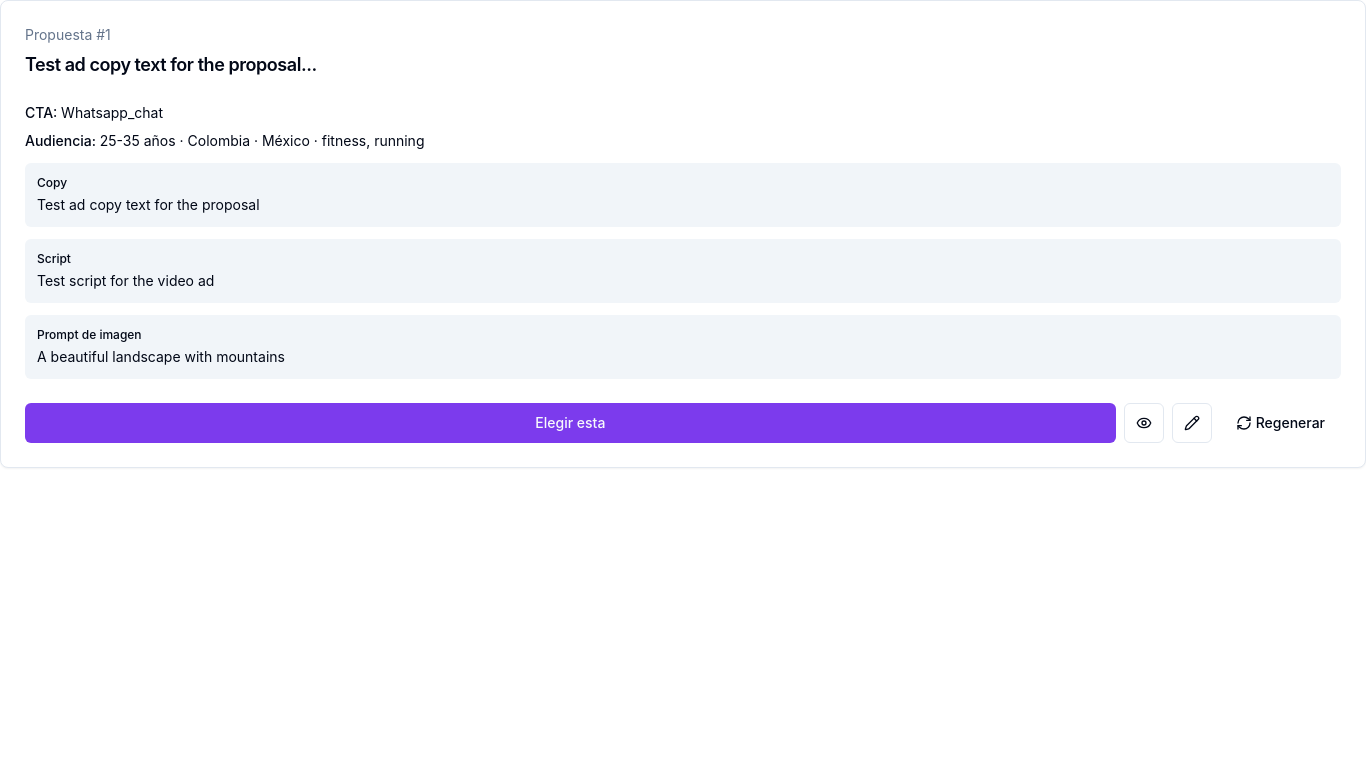
Test: Proposal Editing › shows validation error when age_max is less than age_min
Click the button titled "Editar" at (1192, 423), box x1=1172 y1=403 x2=1212 y2=443
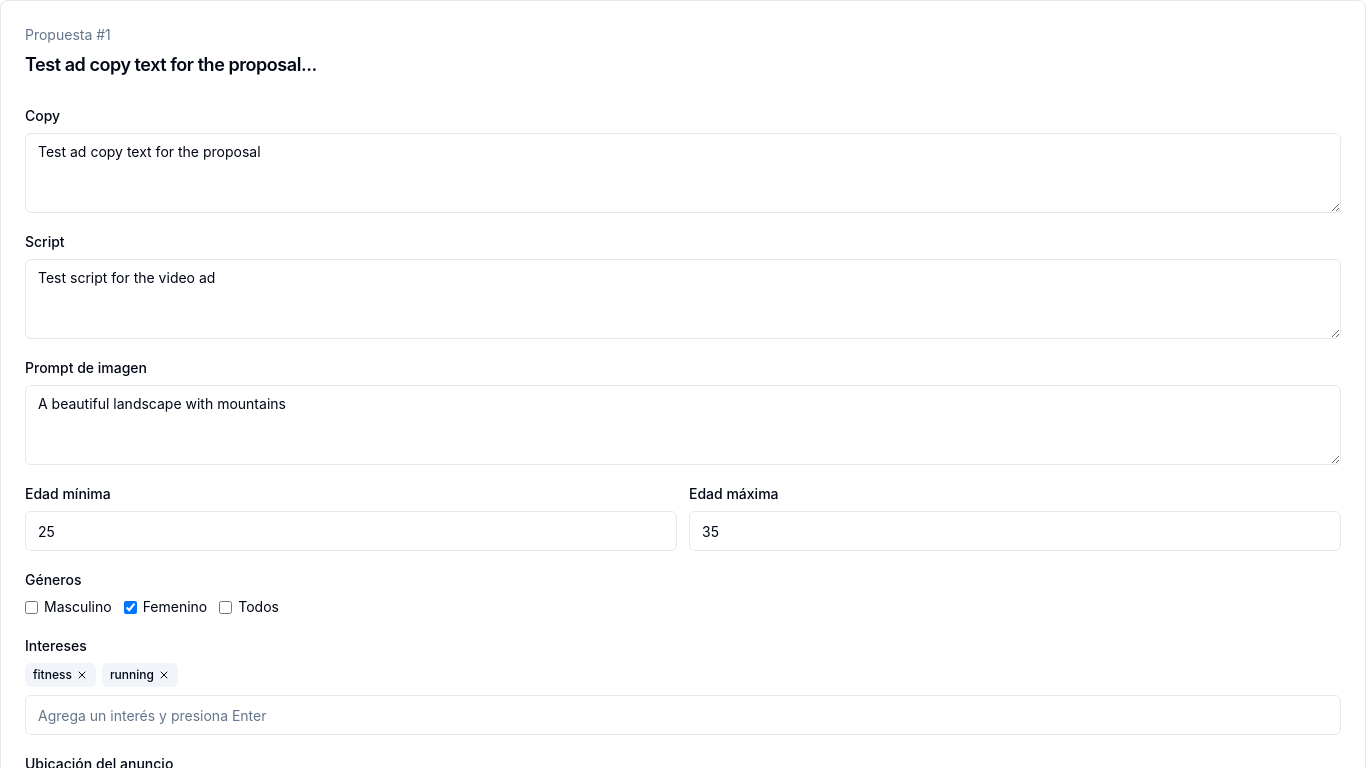
Replace the text in the number field labelled "Edad mínima" with "40" at (351, 531), box x1=25 y1=511 x2=677 y2=551
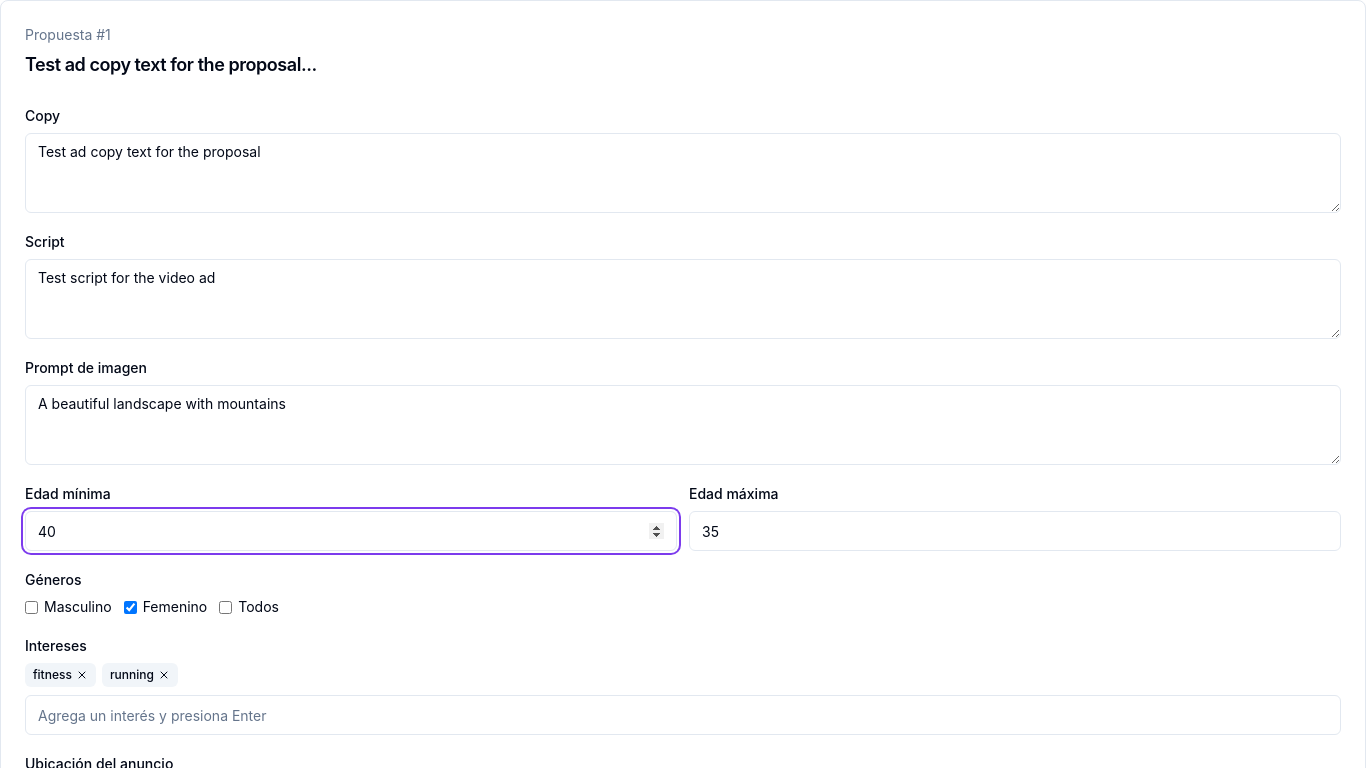
Replace the text in the number field labelled "Edad máxima" with "25" at (1015, 531), box x1=689 y1=511 x2=1341 y2=551
(page scrolled)
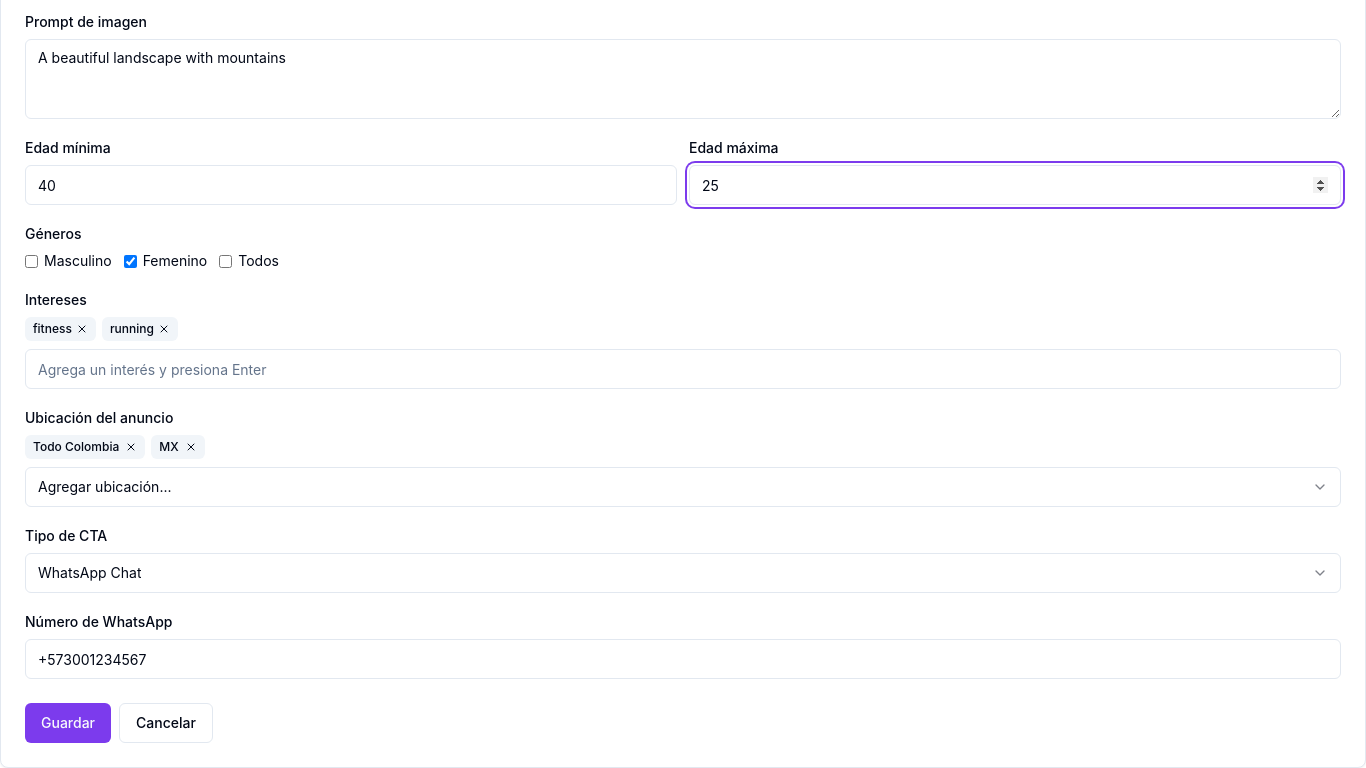
Click the button "Guardar" at (68, 723), box x1=25 y1=703 x2=111 y2=743
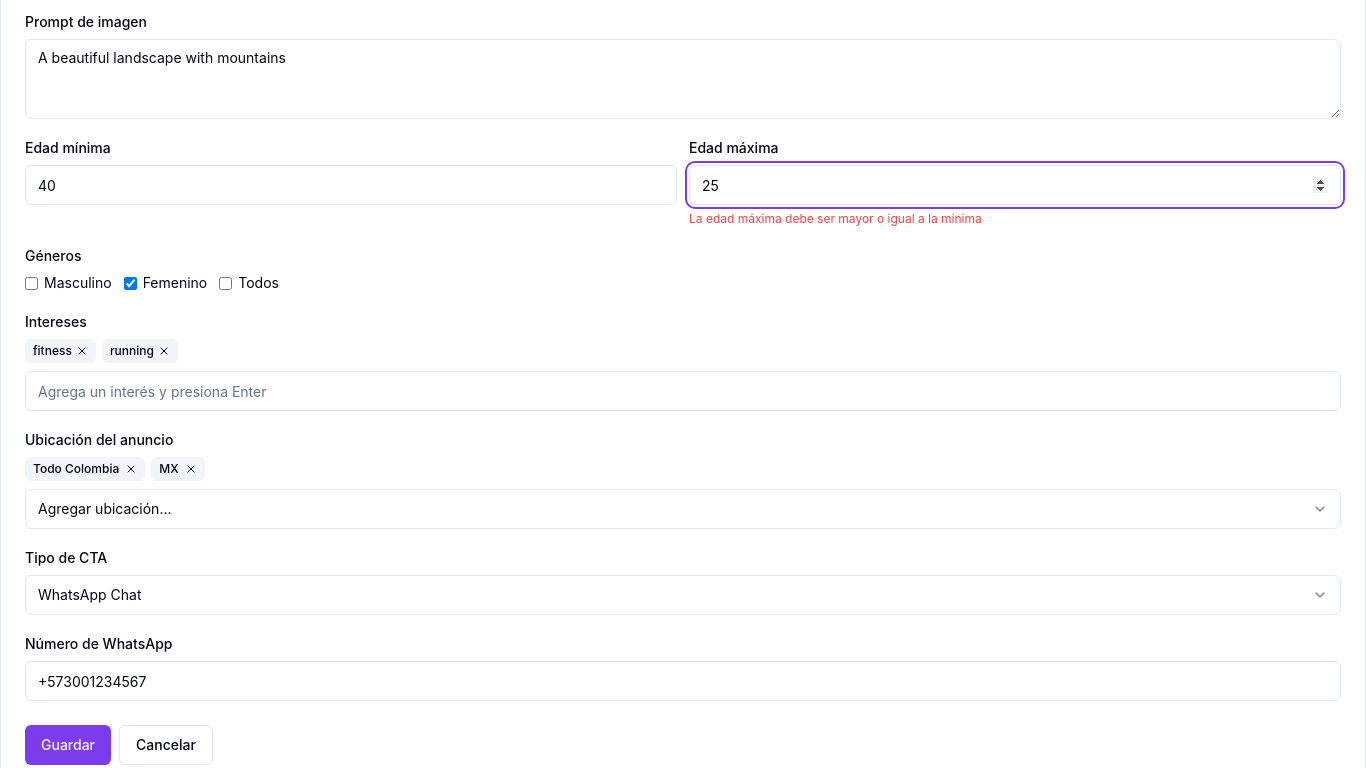
Result: the text "La edad máxima debe ser mayor o igual a la mínima" is shown at x1=689 y1=211 x2=982 y2=226
